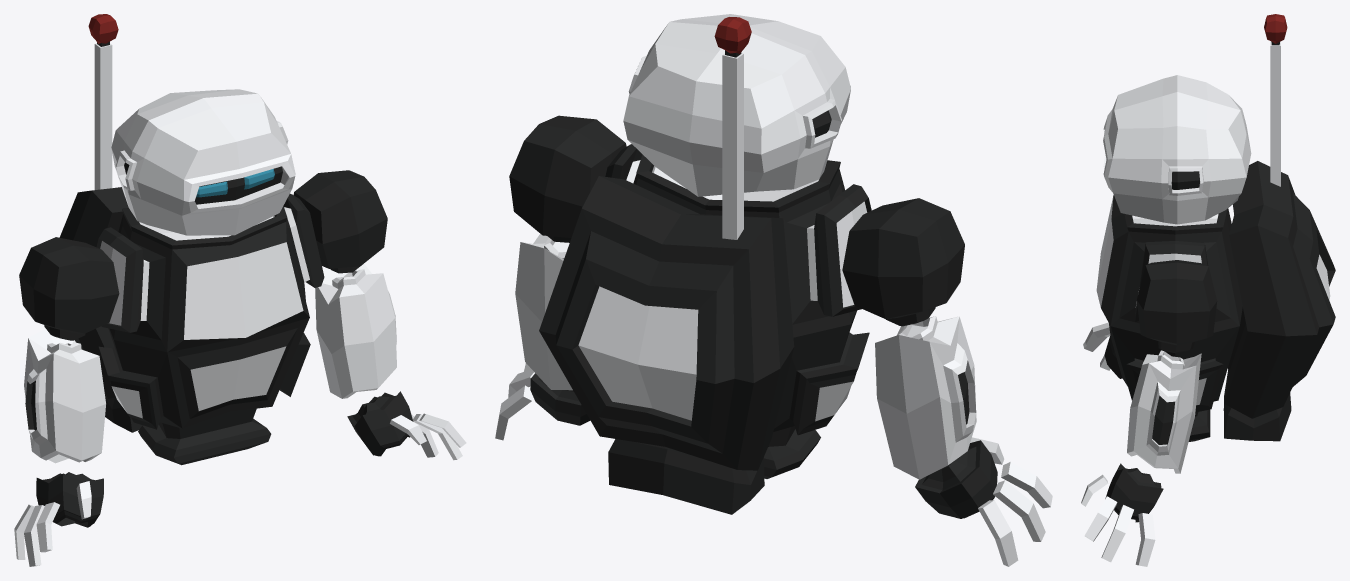
The model's file is Robot.fbx.
3 renders of one model, left to right at view 1: azimuth 30°, elevation 25°; view 2: azimuth 150°, elevation 25°; view 3: azimuth 270°, elevation 25°, orthographic. The views are drawn at different scales.
Parts seen in each view (by area): view 1: Robot, Antena, DedosD, DedosI; view 2: Robot, Antena, DedosD, DedosI; view 3: Robot, DedosI, Antena, DedosD.
Boxes of the visible parts, <box> form: Robot: <box>19,89,413,527</box>; Antena: <box>88,14,118,189</box>; DedosD: <box>14,481,91,566</box>; DedosI: <box>390,413,466,460</box>; Robot: <box>509,14,997,518</box>; Antena: <box>714,17,751,239</box>; DedosD: <box>970,437,1052,566</box>; DedosI: <box>495,363,534,440</box>; Robot: <box>1096,75,1335,522</box>; DedosI: <box>1081,474,1155,566</box>; Antena: <box>1264,14,1287,186</box>; DedosD: <box>1083,322,1110,370</box>.
Size of the model in its own units: 545 by 551 by 293.
